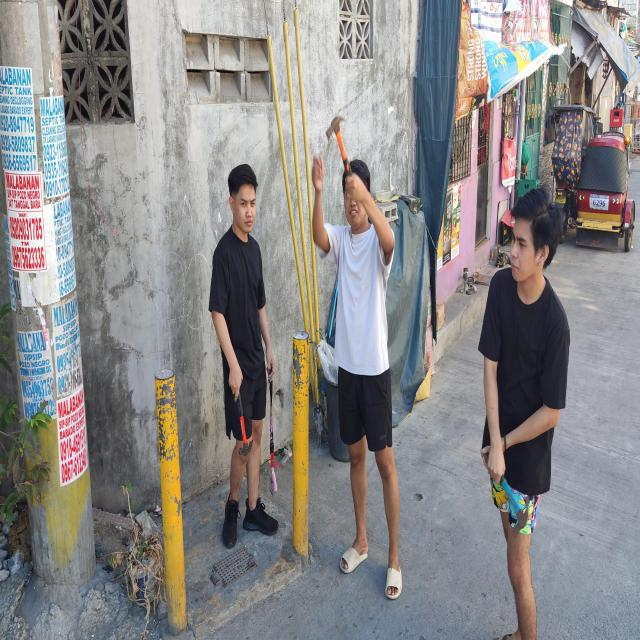hammer: (500, 474, 528, 535), (326, 116, 352, 176), (236, 388, 253, 456)
